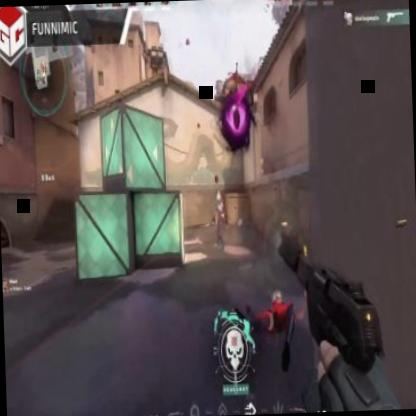enemy: (214, 190, 226, 250)
enemy_head: (216, 190, 222, 202)
